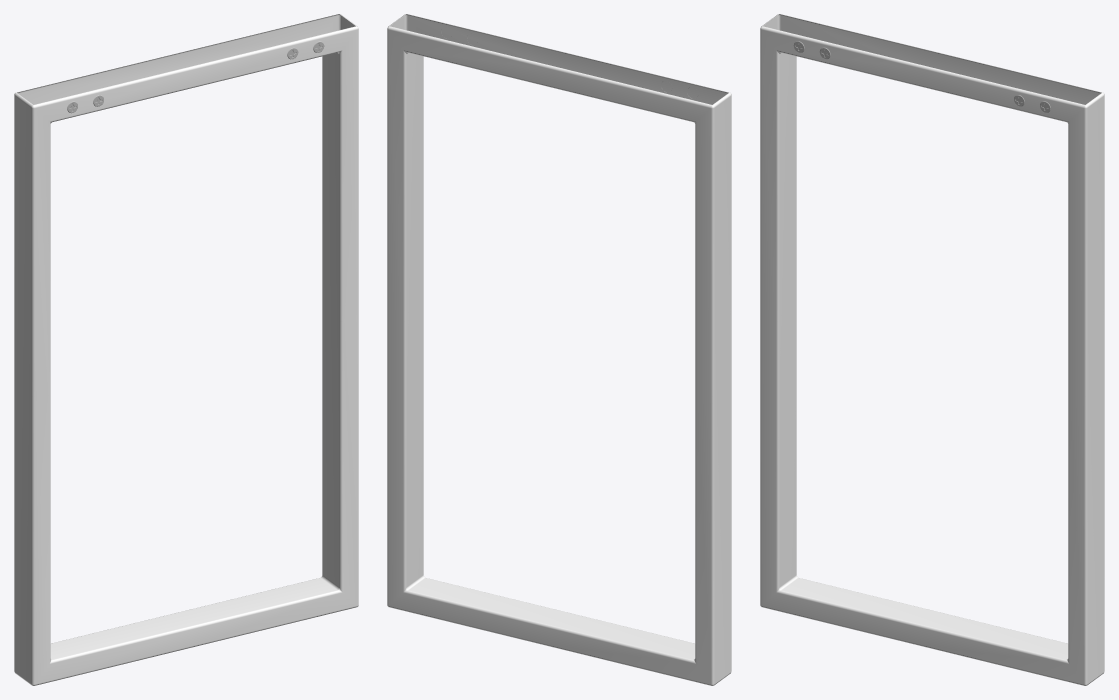
File: leg.glb
The picture shows the model from 3 angles, left to right: view 1: azimuth 30°, elevation 25°; view 2: azimuth 150°, elevation 25°; view 3: azimuth 330°, elevation 25°; orthographic projection.
Visible parts, largest first — view 1: leg; view 2: leg; view 3: leg.
Part boxes in pixels (box(x1,y1,x2,y2)): leg: box(14, 14, 358, 685); leg: box(387, 14, 731, 685); leg: box(760, 14, 1104, 685).
Size of the model in its own units: 0.2801 by 0.4753 by 0.0292.
2 materials, 1 textured.
